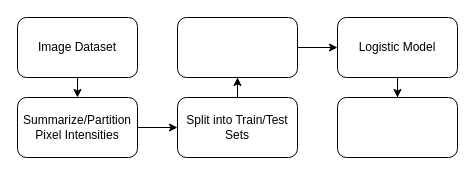
This 475x175 diagram has some shape labels left out. The centre of each missing label's shape, as x and y in pixels:
"Cross Validate Results" belongs at [397,127].
"Preform Variable Selection using Lasso" belongs at [237,47].
